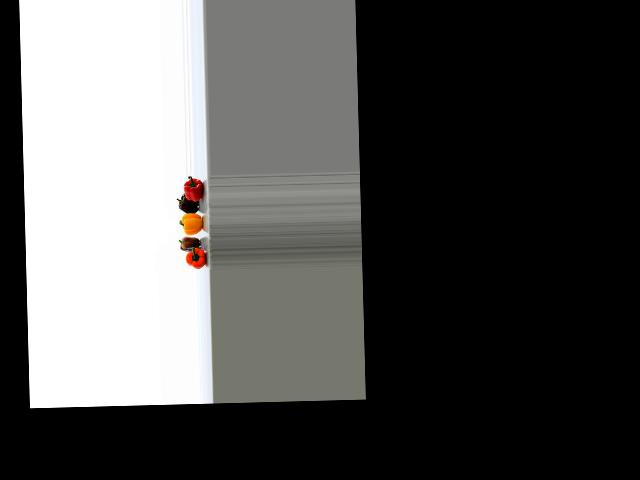bell_pepper: (178, 246, 208, 269)
